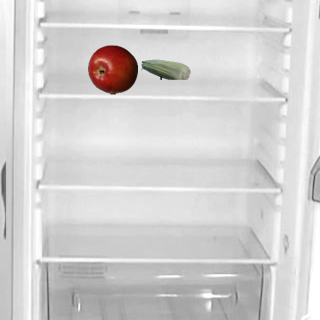Apple Braeburn: (87, 44, 137, 94)
Corn Husk: (140, 44, 190, 94)
